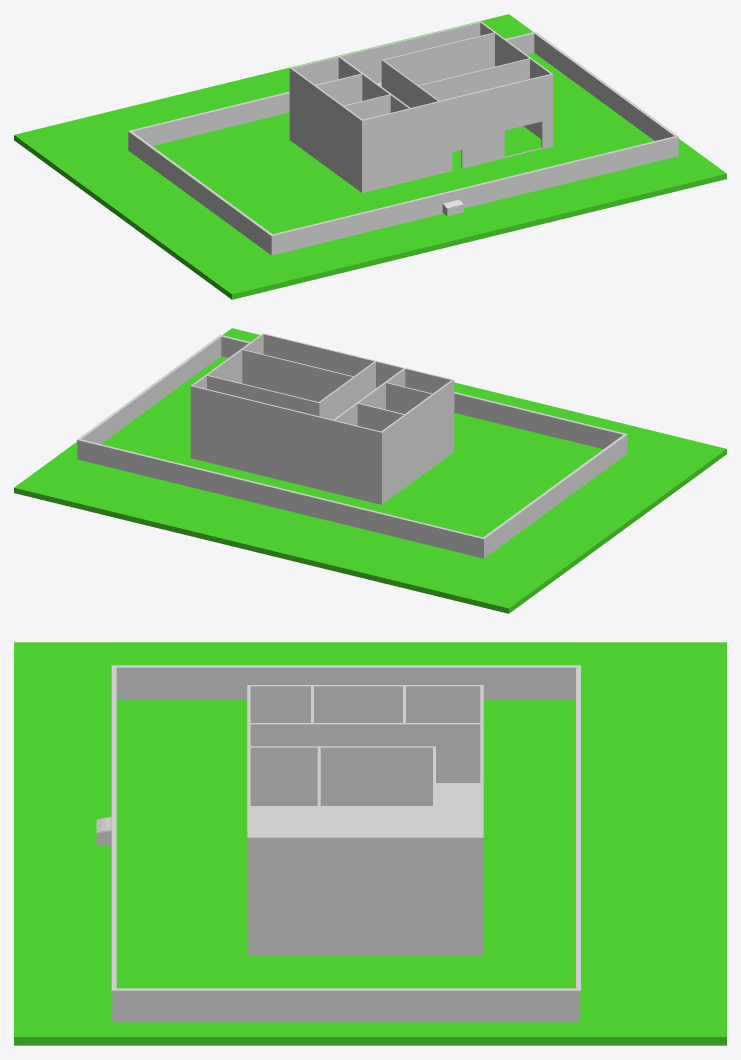
Rendered from rightarm_House base.fbx.
The picture shows the model from 3 angles, top to bottom: view 1: azimuth 30°, elevation 25°; view 2: azimuth 150°, elevation 25°; view 3: azimuth 270°, elevation 25°; orthographic projection. The views are drawn at different scales.
Parts seen in each view (by area): view 1: 0floor, 2floor, wall, 1floor; view 2: 0floor, 2floor, wall, 1floor; view 3: 0floor, 2floor, wall, 1floor.
Boxes of the visible parts, x1,y1,x2,y2 form: 0floor: (14, 14, 726, 299); 2floor: (289, 21, 553, 158); wall: (128, 31, 678, 255); 1floor: (289, 106, 553, 192); 0floor: (14, 328, 726, 613); 2floor: (190, 333, 454, 470); wall: (76, 335, 627, 558); 1floor: (190, 418, 454, 504); 0floor: (14, 642, 726, 1045); 2floor: (247, 685, 483, 899); wall: (111, 665, 580, 1022); 1floor: (247, 899, 483, 955).
Size of the model in its own units: 19319 by 2893 by 14743.
